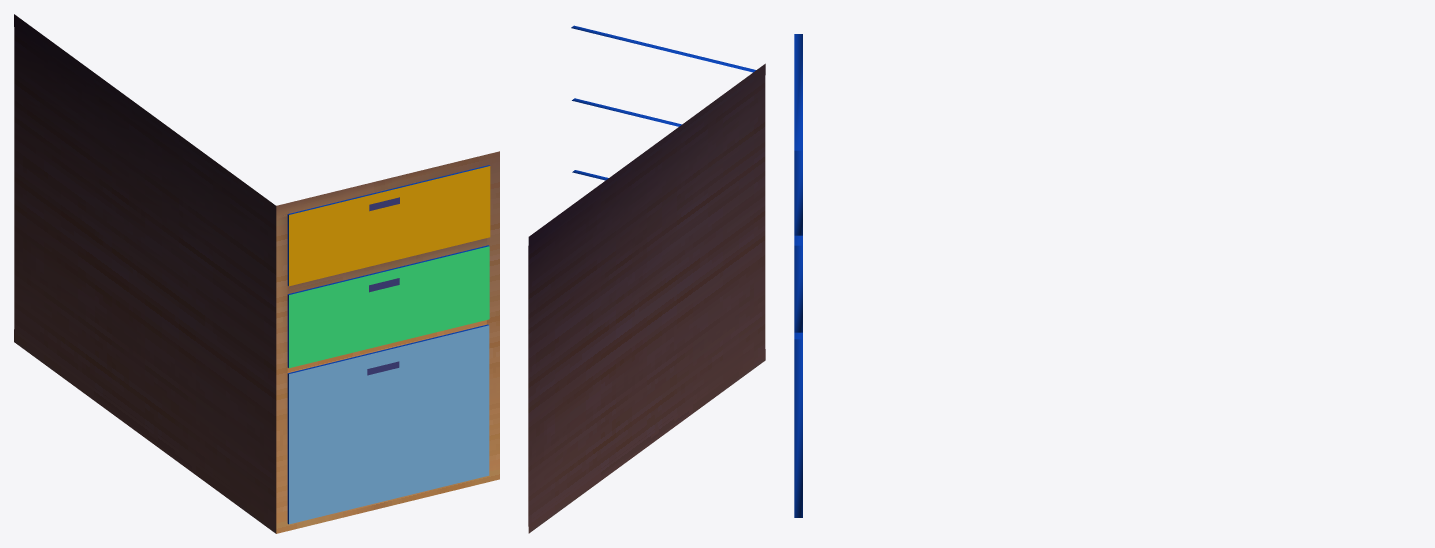
The picture shows the model from 3 angles, left to right: view 1: azimuth 30°, elevation 25°; view 2: azimuth 150°, elevation 25°; view 3: azimuth 270°, elevation 25°; orthographic projection. The views are drawn at different scales.
Visible parts, largest first — view 1: Joint_0_Object_0, Joint_0_Object_1; view 2: Joint_0_Object_0, Joint_0_Object_1; view 3: Joint_0_Object_1.
Part boxes in pixels (bbox=[...]): Joint_0_Object_0: bbox=[14, 14, 499, 533]; Joint_0_Object_1: bbox=[287, 165, 490, 524]; Joint_0_Object_0: bbox=[528, 63, 765, 533]; Joint_0_Object_1: bbox=[571, 25, 755, 180]; Joint_0_Object_1: bbox=[794, 34, 802, 517].
Size of the model in its own units: 1024 by 1436 by 2089.
Materials: 2 (1 with a texture image).
